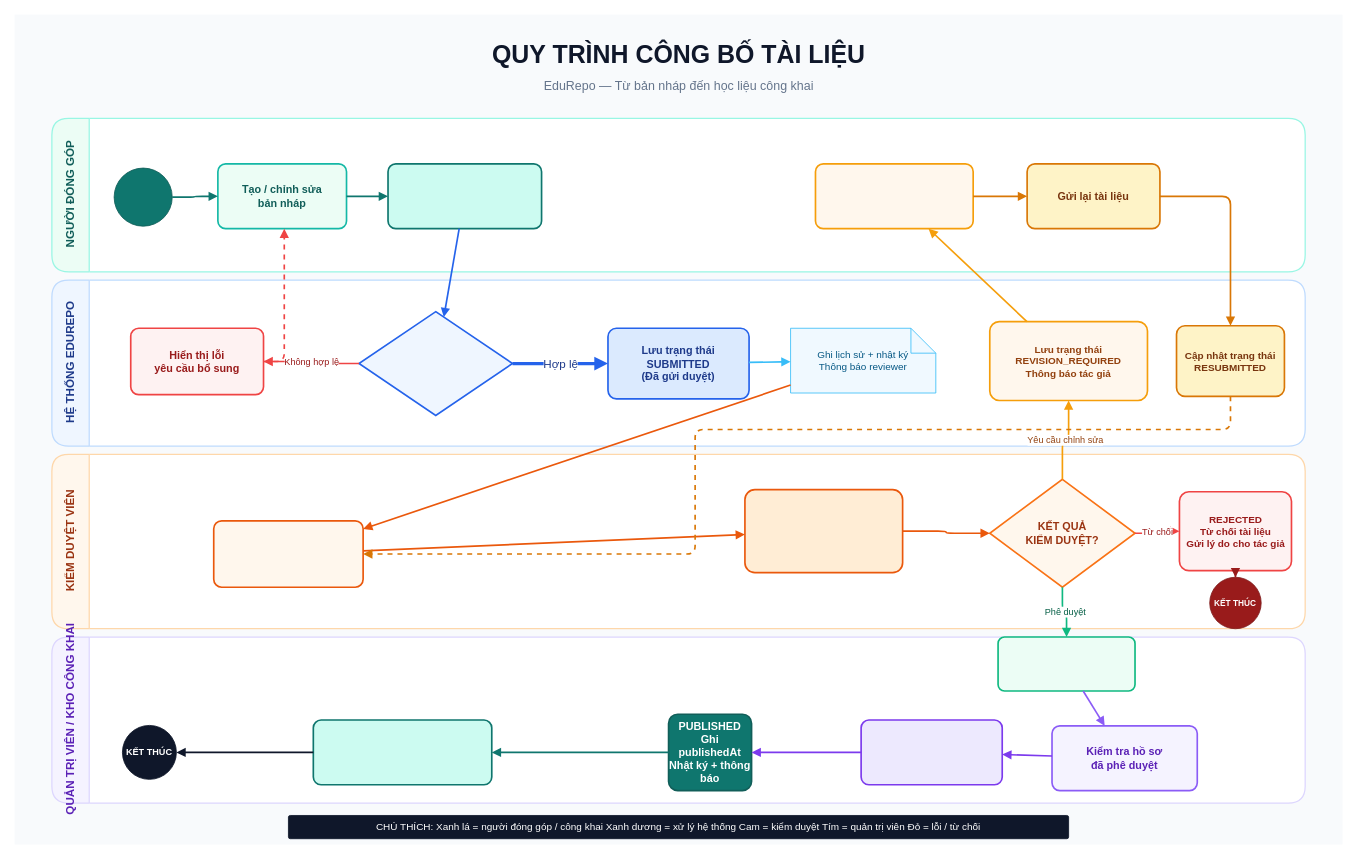
Some shapes in this 1356 by 858 pixel diagram are drawn without their labels. The centre of each missing label's shape, as x and y in pixels:
"APPROVED Phê duyệt tài liệu" goes at point (1066, 663).
"BẮT ĐẦU" goes at point (142, 196).
"Chỉnh sửa nội dung / tệp theo phản hồi" goes at point (894, 196).
"Kiểm tra thông tin và tệp hợp lệ" goes at point (435, 363).
"Nhấn “Công bố tài liệu”" goes at point (931, 752).
"Nhấn “Nộp tài liệu để duyệt”" goes at point (464, 196).
"Nhận hồ sơ và bắt đầu kiểm duyệt" goes at point (288, 554).
"Tài liệu xuất hiện trong KHO HỌC LIỆU CÔNG KHAI Người dùng có thể xem và tải" goes at point (402, 752).
"UNDER_REVIEW Đọc hồ sơ, tải tệp, chấm rubric 1–5" goes at point (823, 530).
